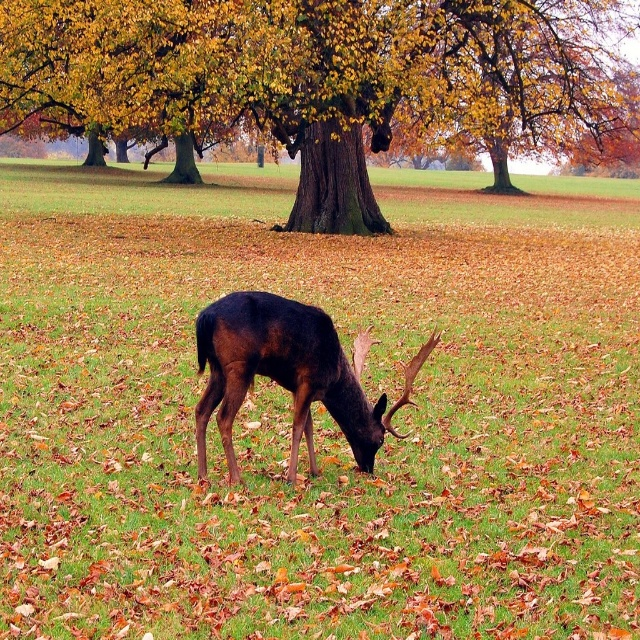Deer: (193, 286, 447, 490)
